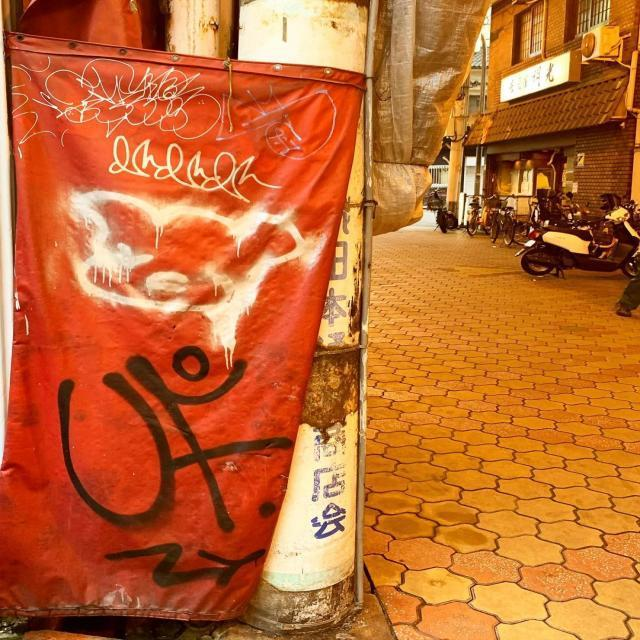-: (43, 348, 300, 601), (12, 46, 356, 211), (42, 165, 336, 344)
